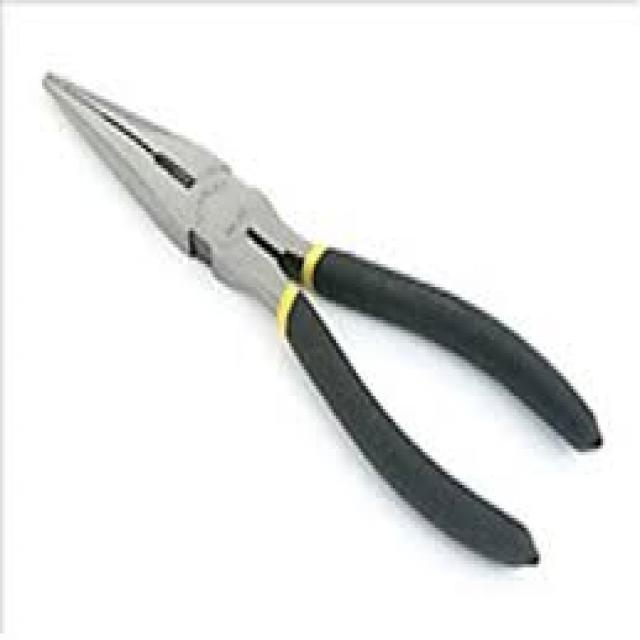pliers: (25, 61, 609, 586)
